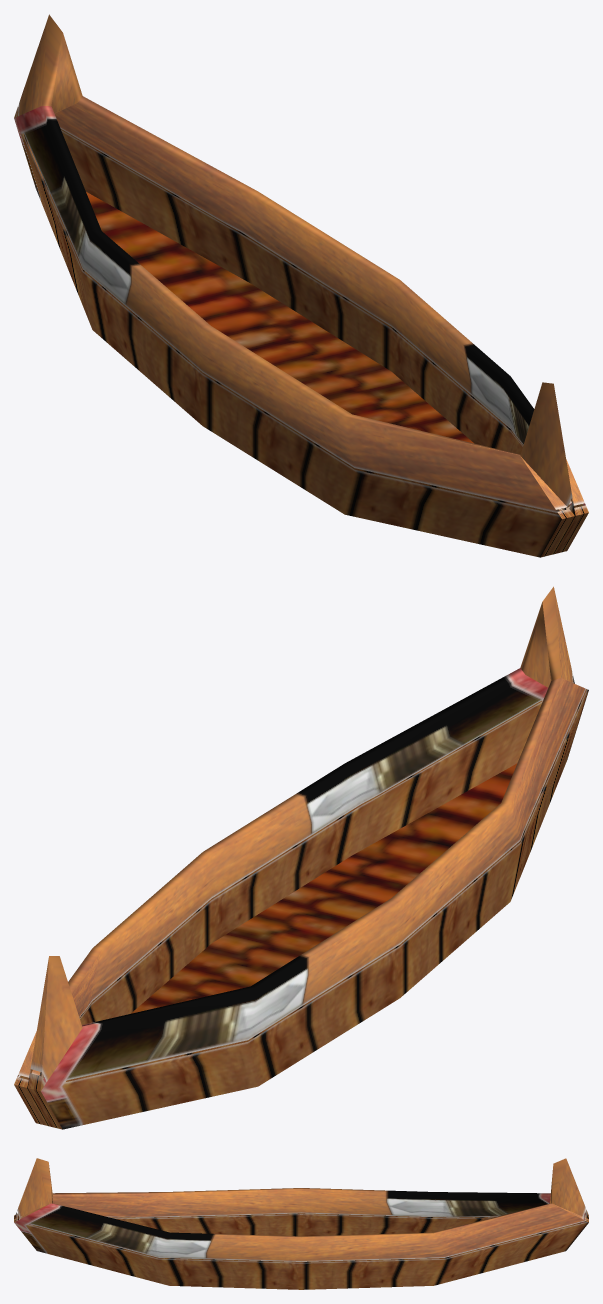
The model's file is canoe_short.dae.
3 views of the same model, one above another, from view 1: azimuth 30°, elevation 25°; view 2: azimuth 150°, elevation 25°; view 3: azimuth 270°, elevation 25° (orthographic). The views are drawn at different scales.
Parts seen in each view (by area): view 1: a_ship_short; view 2: a_ship_short; view 3: a_ship_short.
Boxes of the visible parts, left/top/right/bottom form: a_ship_short: left=14, top=14, right=588, bottom=557; a_ship_short: left=14, top=586, right=588, bottom=1129; a_ship_short: left=14, top=1158, right=588, bottom=1289.
Bounding box in the file's own units: 2.33 × 11.2 × 2.29.
